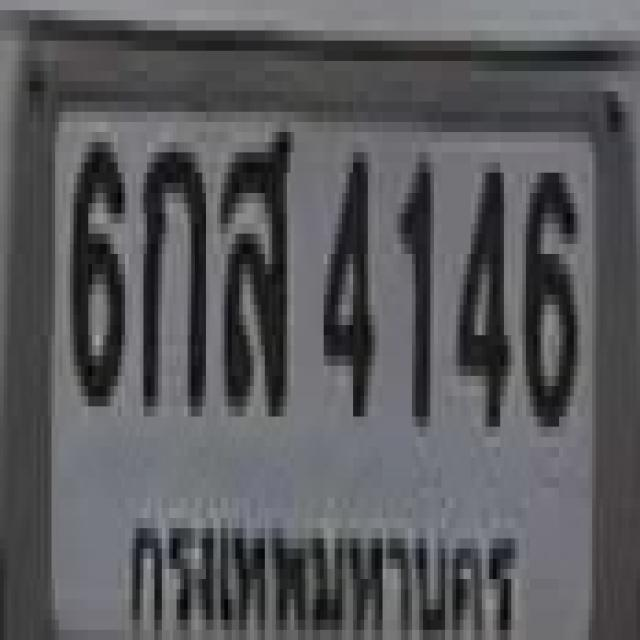1: (398, 152, 430, 416)
4: (452, 152, 504, 416), (320, 142, 371, 406)
6: (66, 132, 122, 396), (522, 162, 574, 416)
A01: (140, 132, 202, 406)
A40: (217, 122, 287, 406)
BKK: (120, 494, 520, 640)
